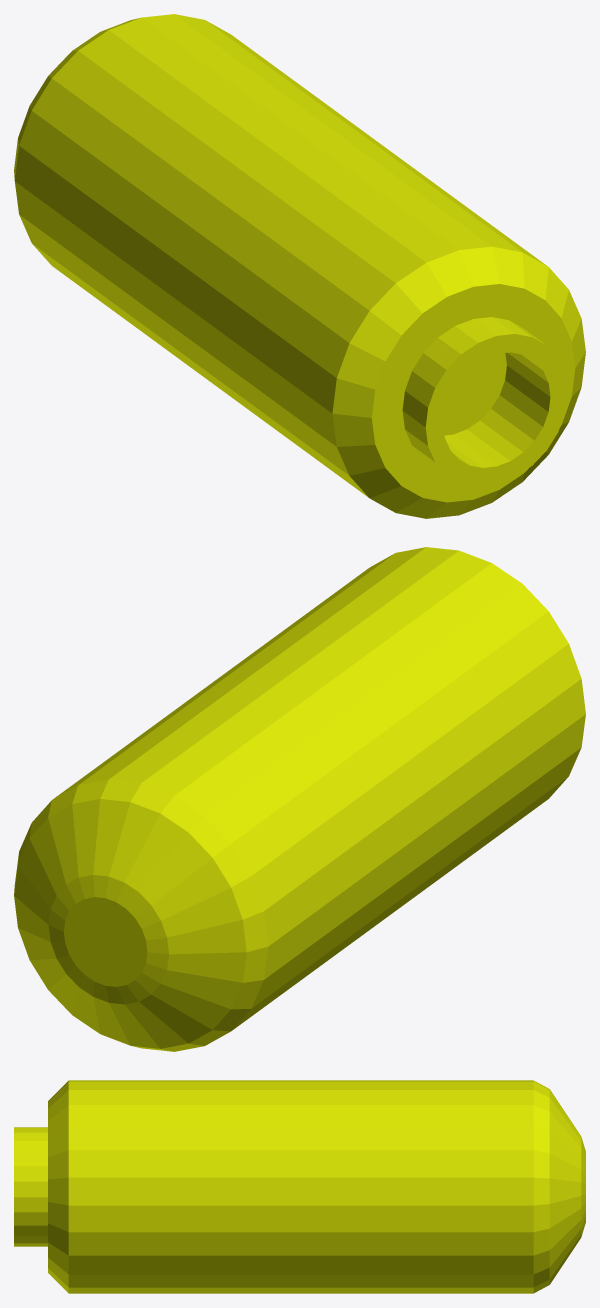
File: gunTank.fbx
The picture shows the model from 3 angles, top to bottom: view 1: azimuth 30°, elevation 25°; view 2: azimuth 150°, elevation 25°; view 3: azimuth 270°, elevation 25°; orthographic projection. The views are drawn at different scales.
Parts seen in each view (by area): view 1: Tank; view 2: Tank; view 3: Tank.
Boxes of the visible parts, x1,y1,x2,y2 form: Tank: (14,14,585,518); Tank: (14,547,585,1051); Tank: (14,1080,585,1293).
Bounding box in the file's own units: 194 × 194 × 519.
